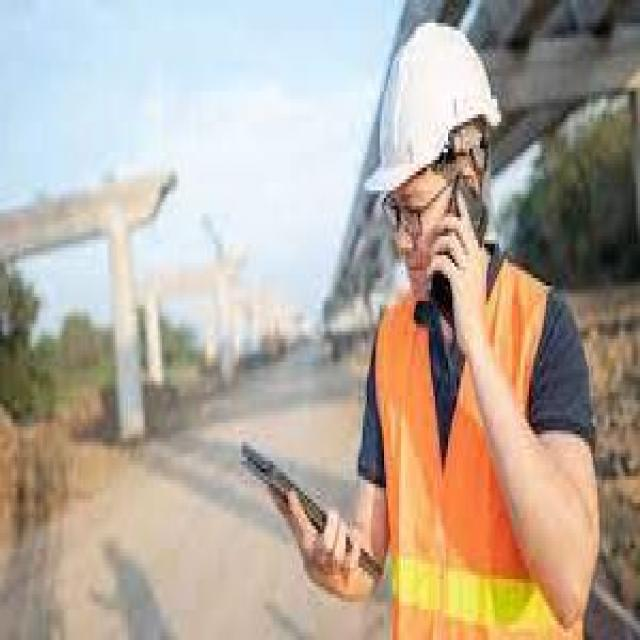Reflective-Jacket: (365, 259, 563, 636)
Safety-Helmet: (358, 19, 510, 206)
